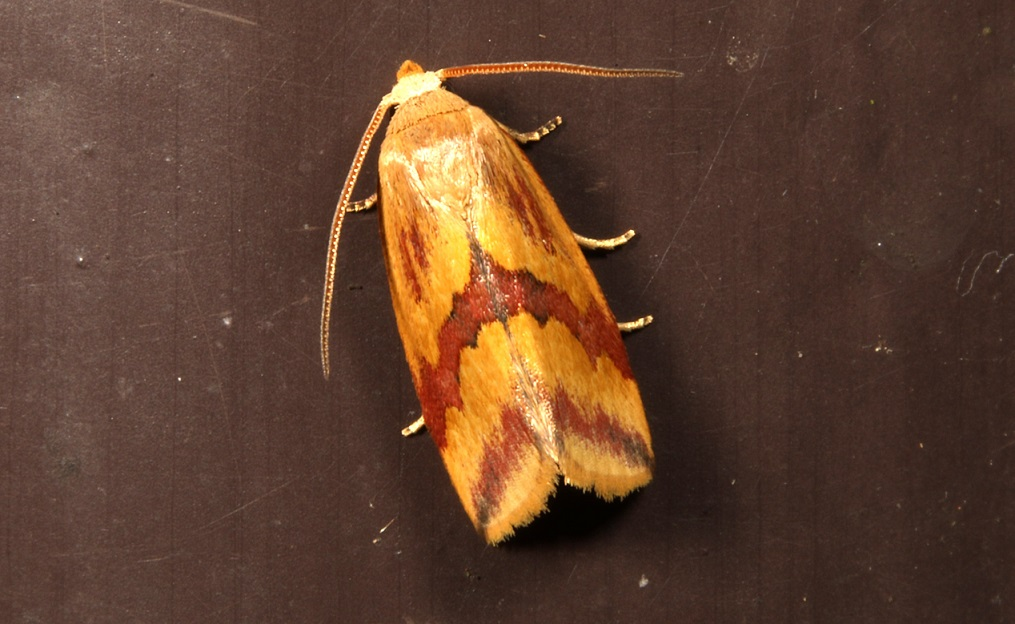Noctuidae: (319, 54, 687, 548)
